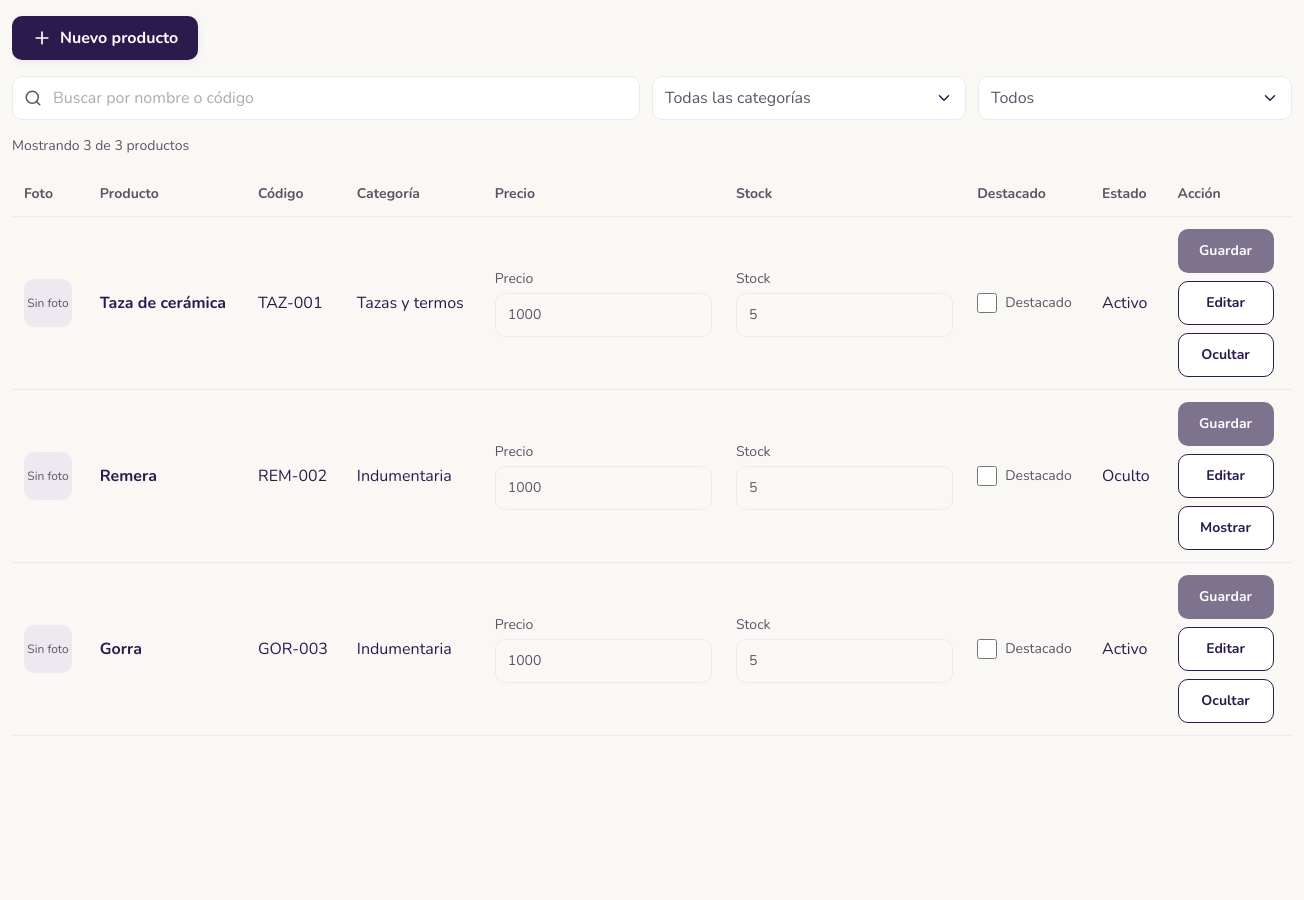
Test: GestionProductos › B2-R5 · oculta un producto activo sin borrarlo y vuelve a pedir la lista
Click the button with aria-label "Ocultar Taza de cerámica" at x=1226, y=355, box [1178,333,1274,377]
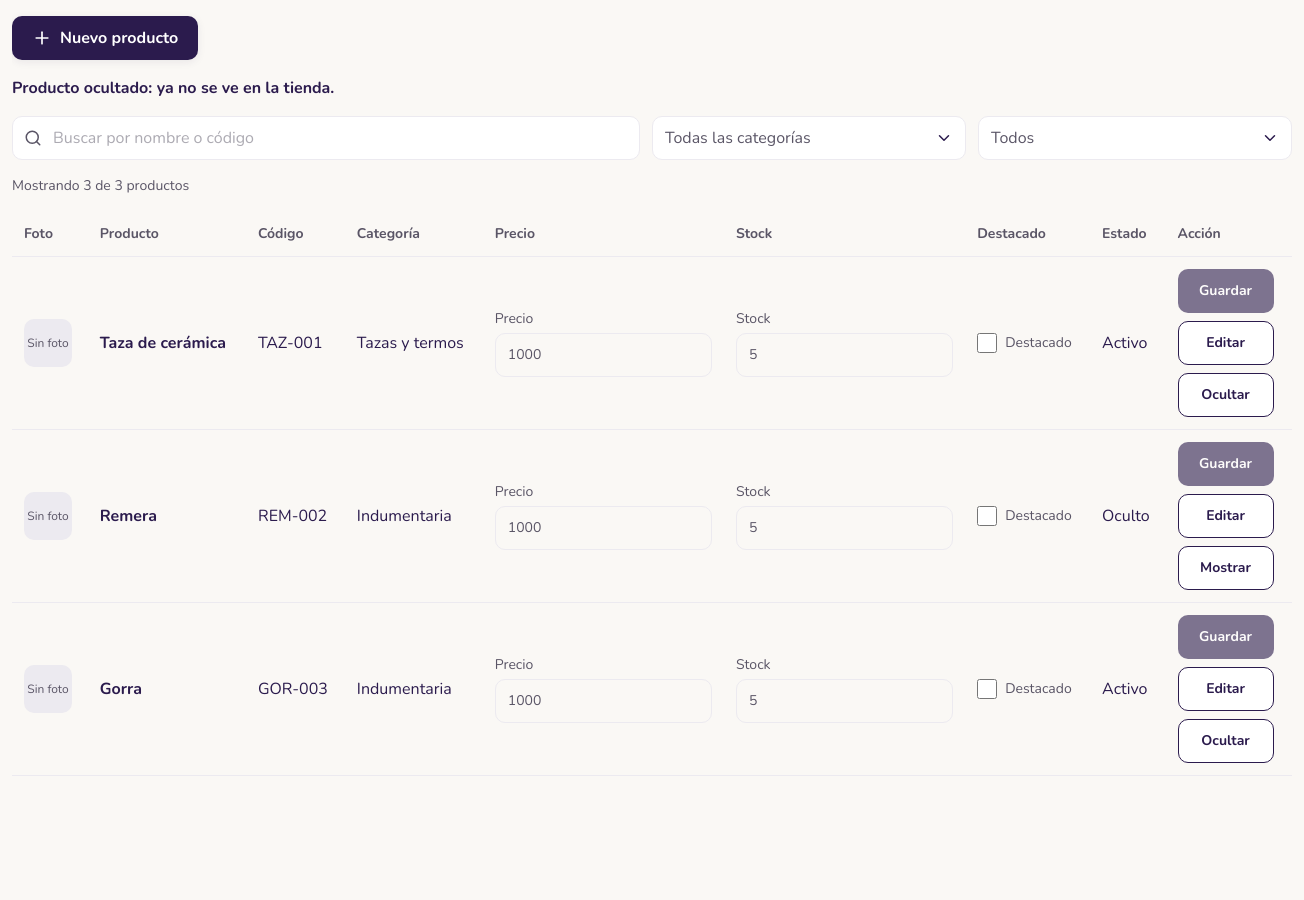
Expected: the message shows "ya no se ve en la tienda", [12,77,334,99]
